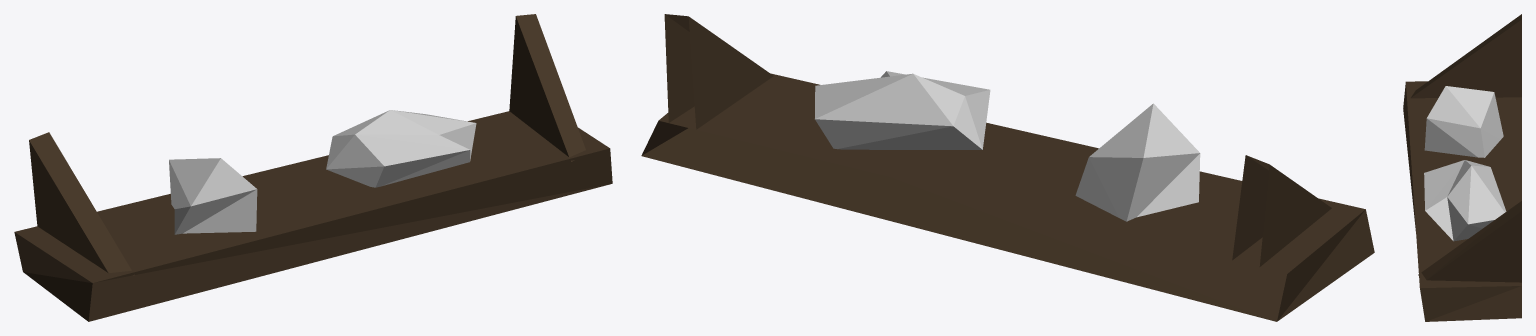
File: NC_LOB_NICE2.OBJ
The picture shows the model from 3 angles, left to right: view 1: azimuth 30°, elevation 25°; view 2: azimuth 150°, elevation 25°; view 3: azimuth 270°, elevation 25°; orthographic projection. The views are drawn at different scales.
Visible parts, largest first — view 1: NC_LOB_NICE2; view 2: NC_LOB_NICE2; view 3: NC_LOB_NICE2.
Part boxes in pixels (left/top/right/bottom): NC_LOB_NICE2: left=14, top=14, right=612, bottom=321; NC_LOB_NICE2: left=641, top=14, right=1374, bottom=321; NC_LOB_NICE2: left=1403, top=14, right=1521, bottom=321.
Bounding box in the file's own units: 1.88 × 0.4504 × 0.4434.
